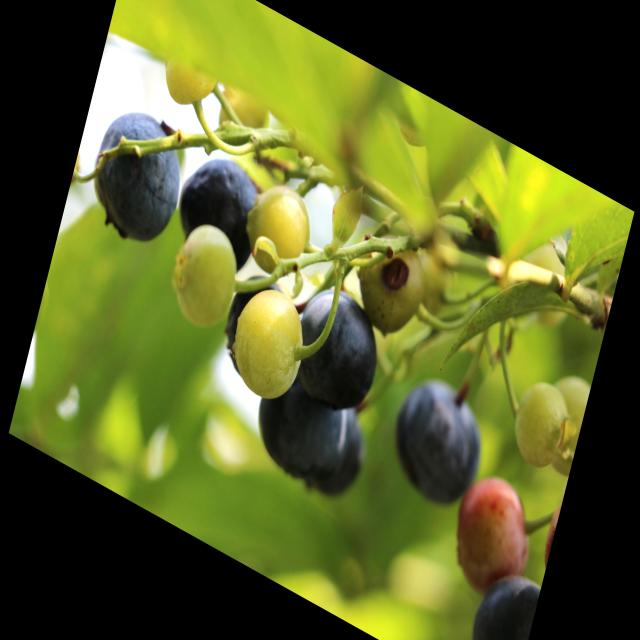blueberry: (379, 359, 495, 525), (83, 94, 191, 258), (248, 356, 358, 500), (287, 275, 393, 424), (168, 138, 268, 276), (456, 552, 542, 640)
blueberry-halfripe: (443, 462, 542, 612)
blueberry-unripe: (224, 272, 316, 414), (352, 225, 436, 345), (237, 170, 321, 290), (165, 212, 245, 337), (501, 368, 573, 480), (531, 361, 592, 478), (156, 42, 222, 121), (212, 75, 276, 156)
